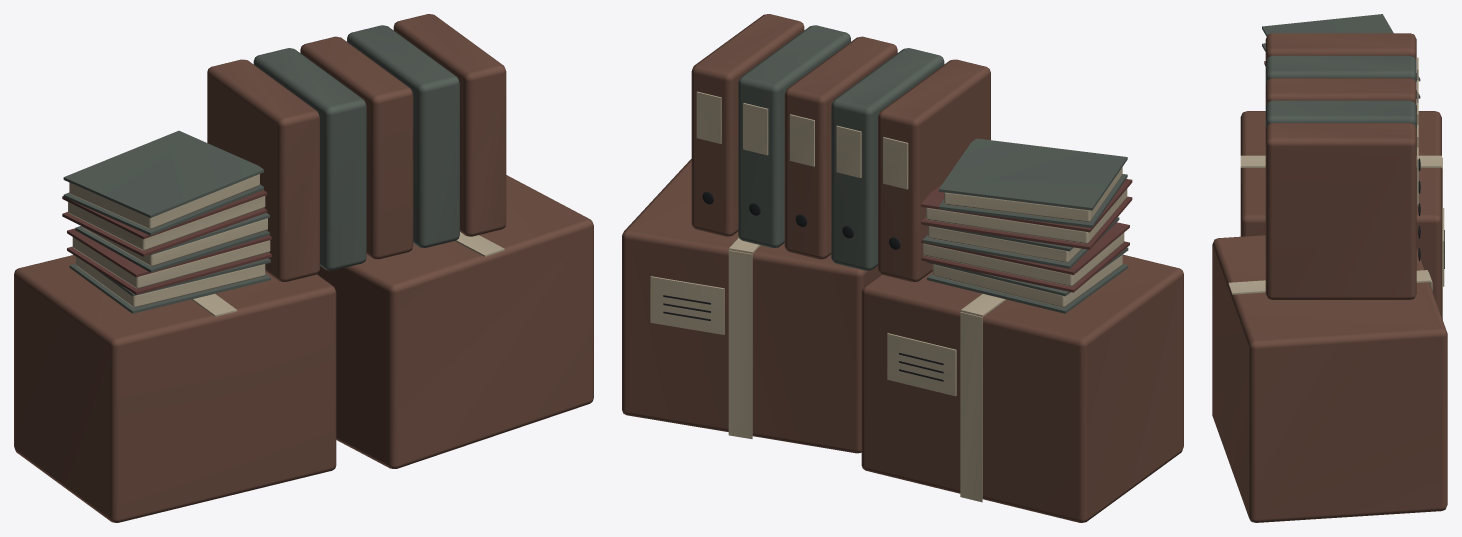
The model's file is prop-archive-stack-v01.glb.
3 renders of one model, left to right at view 1: azimuth 30°, elevation 25°; view 2: azimuth 150°, elevation 25°; view 3: azimuth 270°, elevation 25°, orthographic.
Visible parts, largest first — view 1: archive-stack; view 2: archive-stack; view 3: archive-stack.
Part boxes in pixels (left/top/right/bottom): archive-stack: left=14, top=14, right=593, bottom=522; archive-stack: left=622, top=14, right=1183, bottom=522; archive-stack: left=1212, top=14, right=1447, bottom=522.
Size of the model in its own units: 0.9925 by 0.685 by 0.4211.
